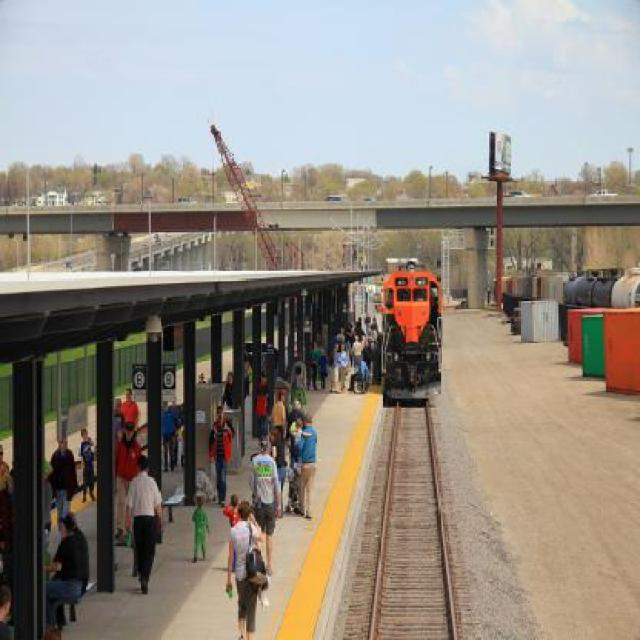obstacle: (222, 498, 264, 640), (119, 452, 155, 599), (44, 512, 85, 640), (247, 437, 281, 578), (113, 423, 138, 545), (49, 437, 76, 540), (206, 409, 231, 506), (294, 414, 318, 515), (1, 470, 16, 584), (270, 426, 288, 520), (270, 389, 287, 466), (192, 497, 210, 565), (160, 400, 177, 471), (77, 428, 91, 502), (117, 385, 138, 433), (256, 372, 272, 433), (347, 353, 368, 396), (0, 586, 14, 640), (222, 372, 236, 414), (328, 344, 339, 396), (308, 342, 318, 391), (316, 346, 327, 389), (292, 366, 302, 406), (350, 336, 361, 370), (115, 397, 126, 428), (372, 341, 379, 388), (195, 370, 207, 382), (0, 442, 5, 463)
